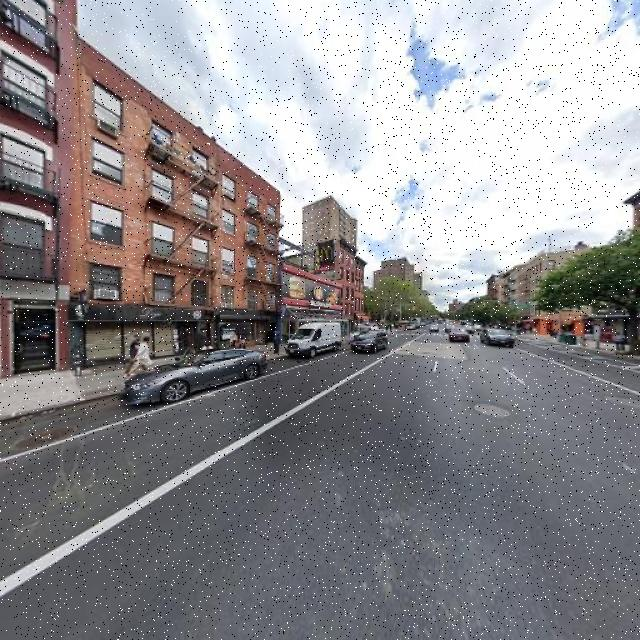Building: (78, 39, 215, 364), (1, 1, 72, 375), (219, 147, 278, 348), (280, 263, 340, 339)
